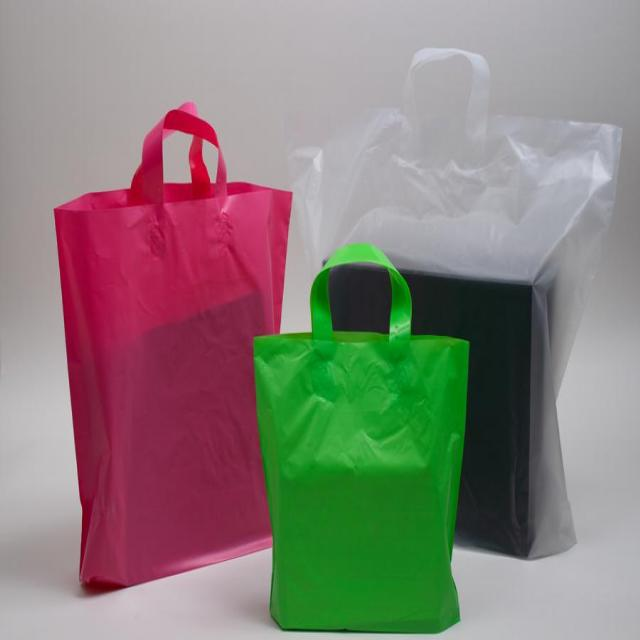plastic_bag: (285, 38, 628, 573), (55, 91, 293, 582), (255, 245, 466, 640)
